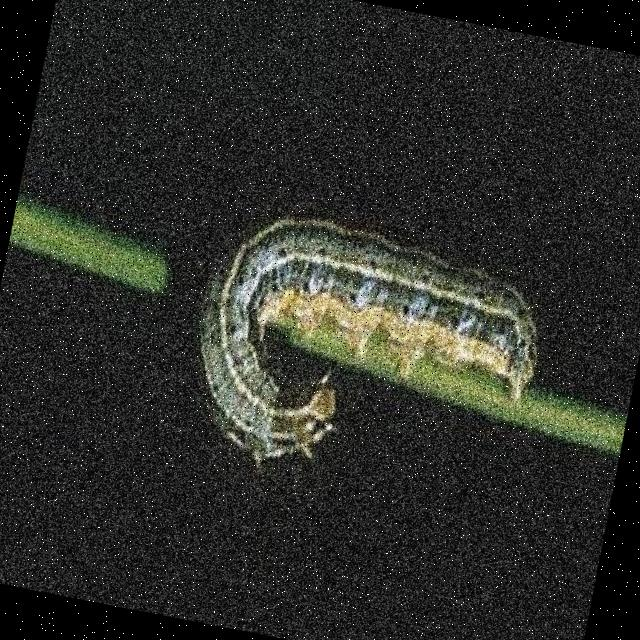worm: (175, 200, 558, 518)
